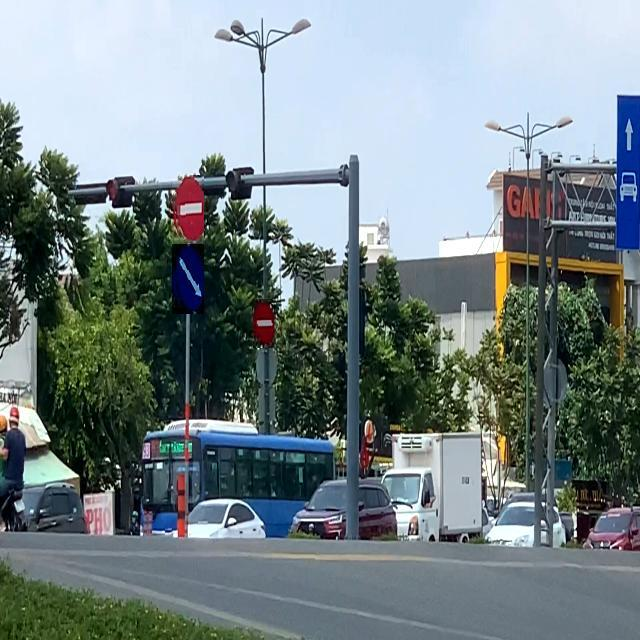P-102: (173, 175, 205, 244), (254, 299, 276, 348)
R-302a: (172, 243, 204, 314)
